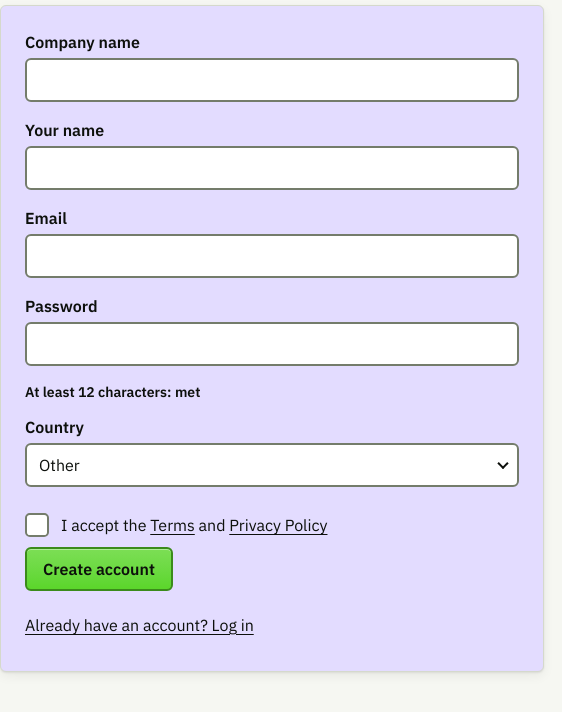
Test: submitting › says so in words when the server cannot be reached
(page scrolled)
Click the button "Create account". click: (99, 569)
box: [25,547,173,591]
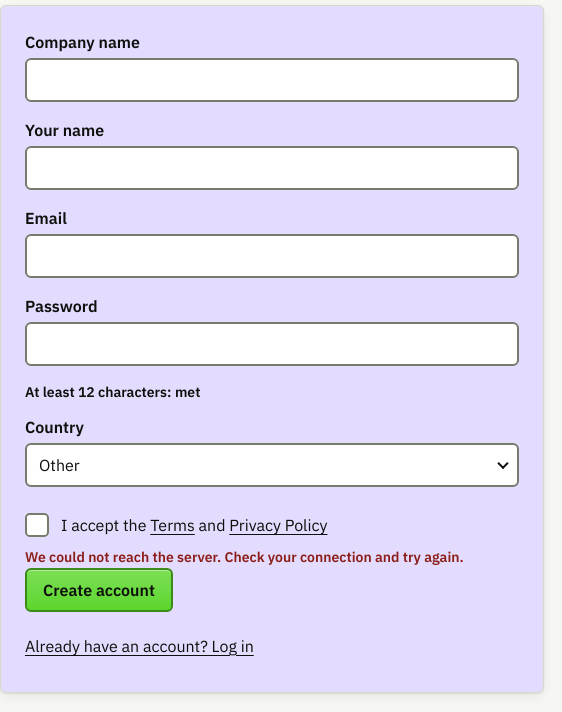
Now the message shows "could not reach the server", box [25,548,464,566]
